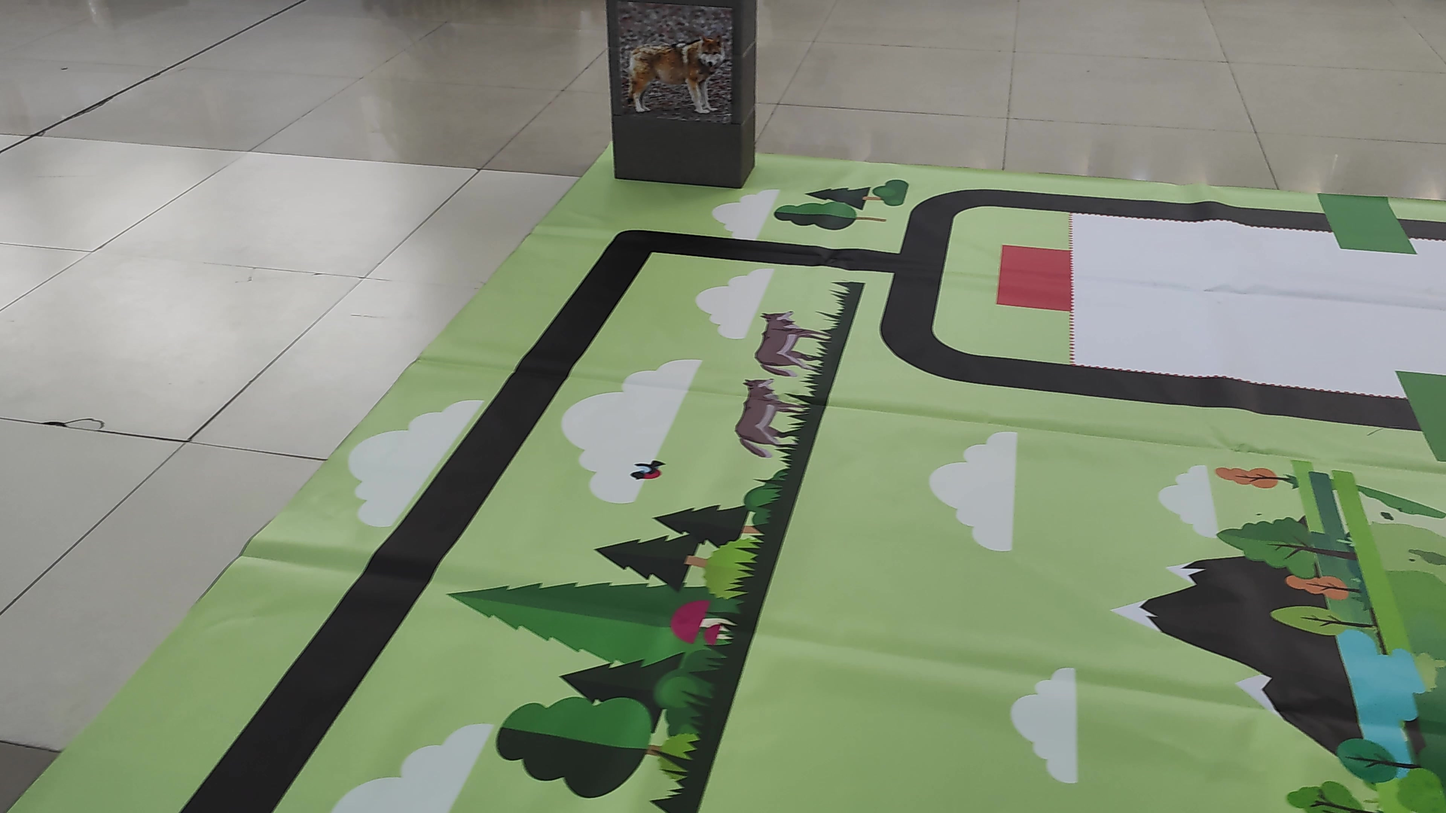wolf: (618, 3, 732, 128)
